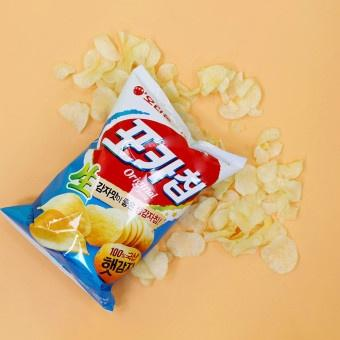snack: (0, 63, 250, 313)
